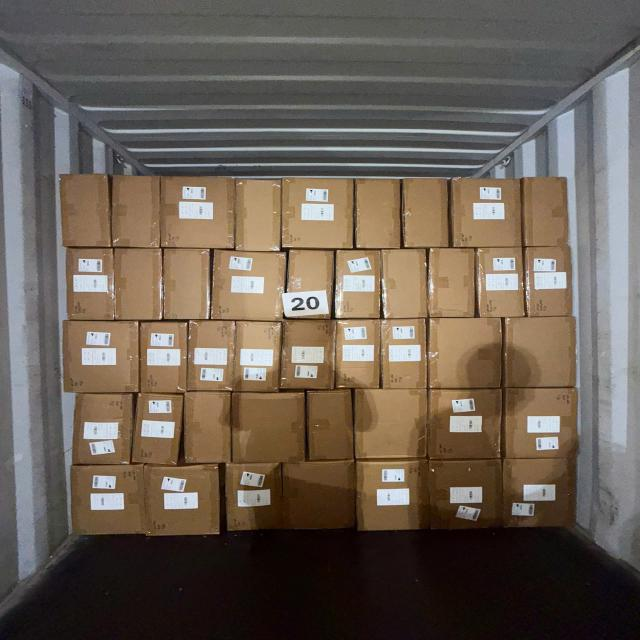Carton: (62, 321, 140, 396), (233, 393, 309, 468), (504, 389, 580, 464), (358, 458, 433, 533), (426, 316, 502, 390), (504, 456, 580, 530), (428, 391, 505, 464), (148, 465, 225, 538), (67, 464, 145, 536), (504, 316, 579, 390), (432, 459, 506, 533), (164, 174, 237, 248), (356, 389, 430, 462), (282, 459, 356, 532), (282, 178, 354, 252), (212, 252, 284, 324), (451, 178, 522, 248), (68, 391, 134, 466), (224, 463, 281, 534), (280, 321, 336, 393), (60, 172, 110, 248), (134, 394, 184, 468), (113, 174, 162, 248), (185, 393, 234, 467), (116, 249, 164, 322), (190, 319, 238, 392), (140, 320, 188, 393), (427, 250, 476, 321), (66, 250, 113, 324), (284, 251, 332, 323), (527, 248, 575, 320), (238, 177, 284, 252), (162, 249, 209, 322), (478, 247, 526, 318), (380, 248, 426, 320), (310, 392, 356, 464), (383, 317, 429, 389), (336, 320, 382, 392), (336, 250, 382, 321), (404, 176, 450, 247), (525, 176, 571, 246), (235, 320, 279, 392), (354, 179, 398, 250)
